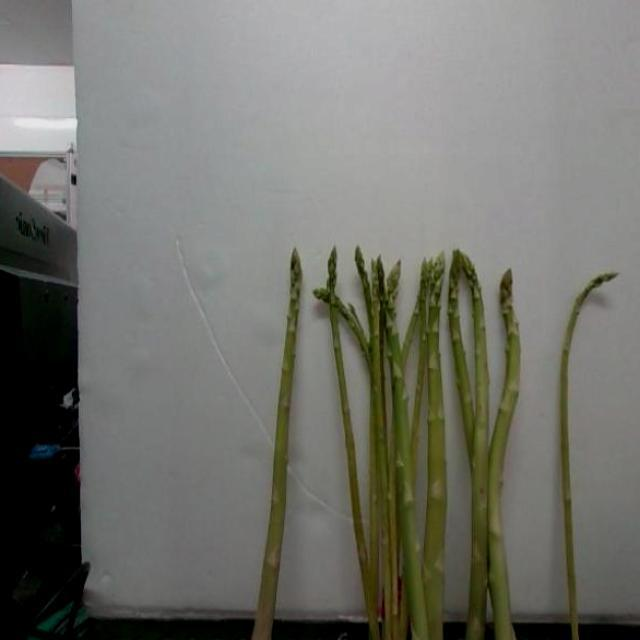aspargus: (559, 273, 618, 640), (251, 254, 304, 640)
